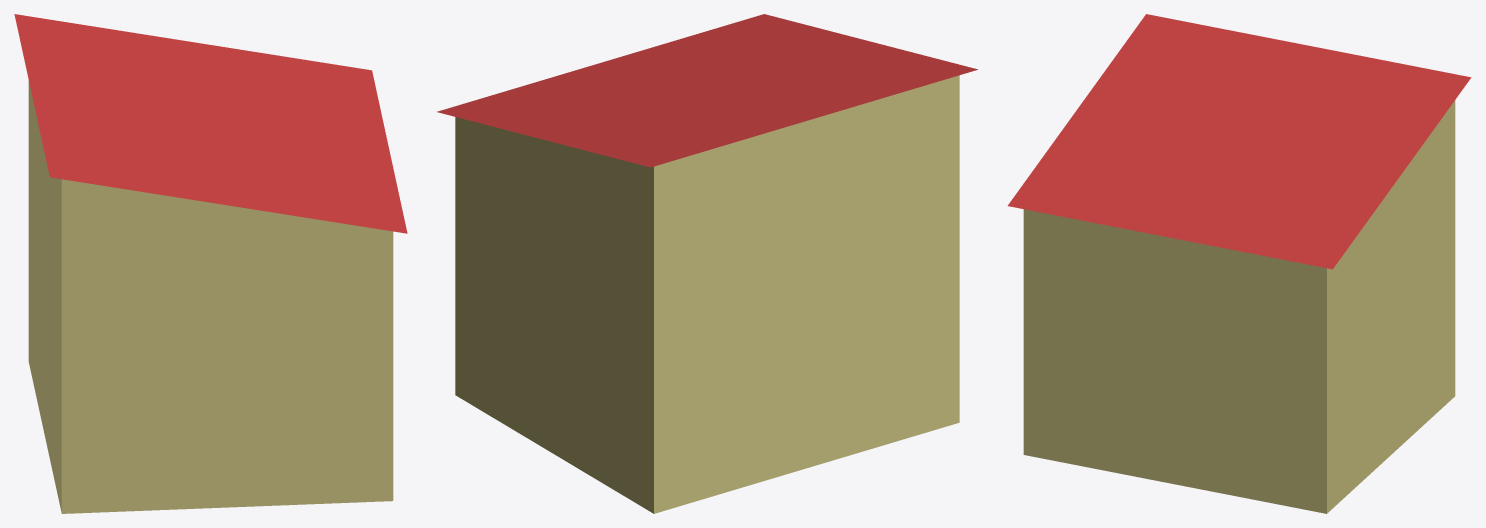
3 renders of one model, left to right at view 1: azimuth 30°, elevation 25°; view 2: azimuth 150°, elevation 25°; view 3: azimuth 270°, elevation 25°, orthographic. The views are drawn at different scales.
Bounding box in the file's own units: 9.29 × 9.56 × 7.19.
